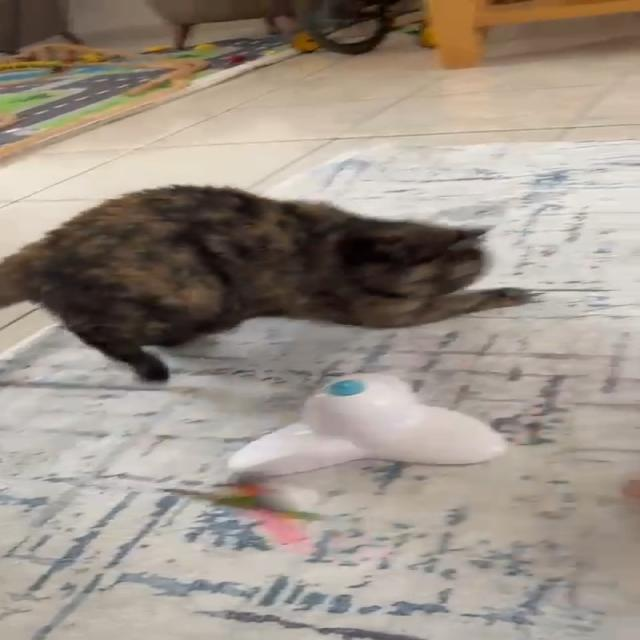authorized: (0, 182, 543, 384)
